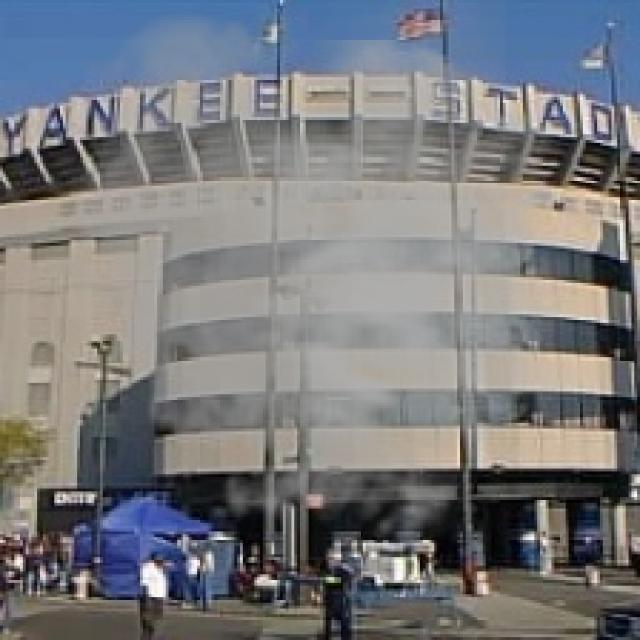smoke: (46, 0, 603, 557)
